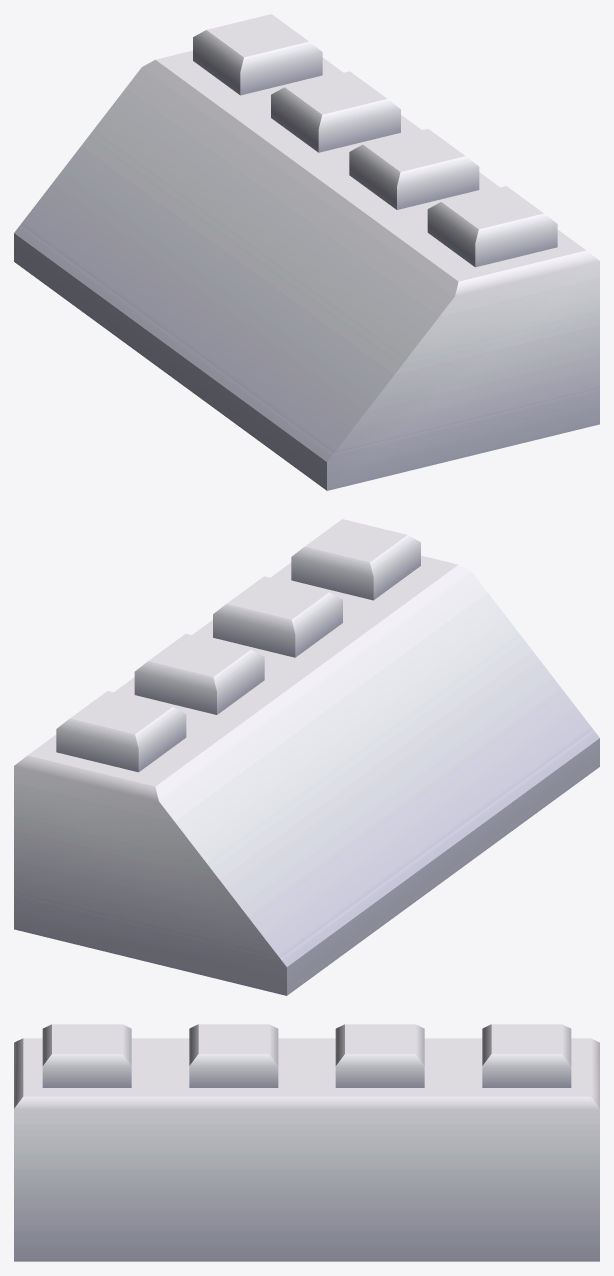
File: square-hq-brick-slope-2x4.glb
The picture shows the model from 3 angles, top to bottom: view 1: azimuth 30°, elevation 25°; view 2: azimuth 150°, elevation 25°; view 3: azimuth 270°, elevation 25°; orthographic projection. The views are drawn at different scales.
Visible parts, largest first — view 1: square-hq-brick-slope-2x4; view 2: square-hq-brick-slope-2x4; view 3: square-hq-brick-slope-2x4.
Boxes of the visible parts, bbox=[...] form: square-hq-brick-slope-2x4: bbox=[14, 14, 599, 490]; square-hq-brick-slope-2x4: bbox=[14, 519, 599, 995]; square-hq-brick-slope-2x4: bbox=[14, 1024, 599, 1261].
Bounding box in the file's own units: 0.159 × 0.114 × 0.316.
Materials: 1 (1 with a texture image).
